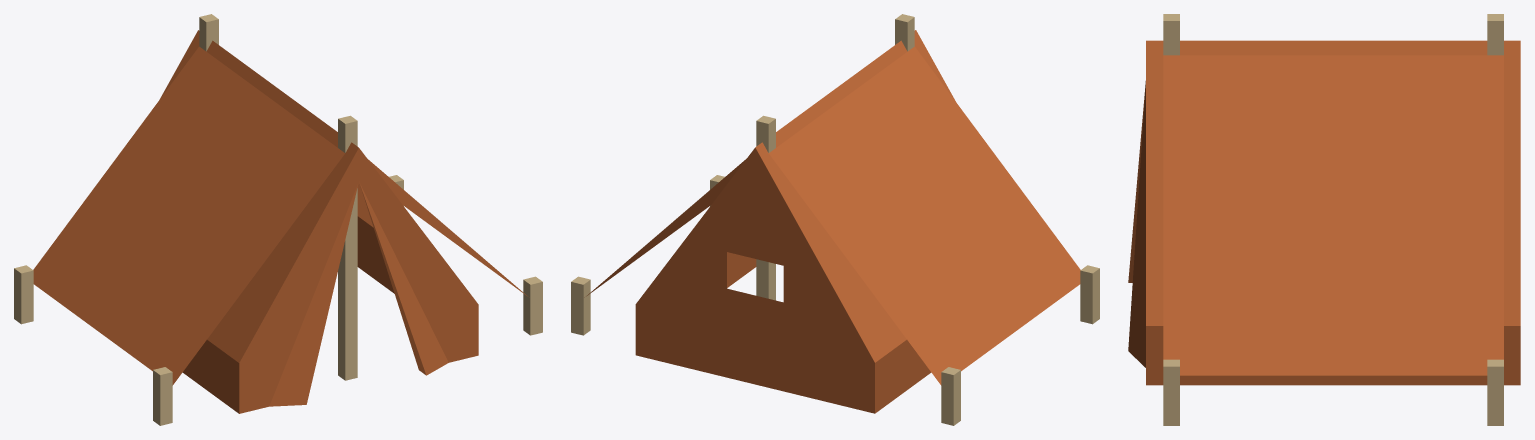
The model's file is tent_detailedOpen.glb.
3 views of the same model, side by side, from view 1: azimuth 30°, elevation 25°; view 2: azimuth 150°, elevation 25°; view 3: azimuth 270°, elevation 25° (orthographic). The views are drawn at different scales.
Parts seen in each view (by area): view 1: tent_detailedOpen; view 2: tent_detailedOpen; view 3: tent_detailedOpen.
Part boxes in pixels (box(x1,y1,x2,y2)): tent_detailedOpen: box(14, 14, 542, 425); tent_detailedOpen: box(571, 14, 1099, 425); tent_detailedOpen: box(1128, 14, 1520, 425).
Size of the model in its own units: 0.8749 by 0.5611 by 0.6664.
